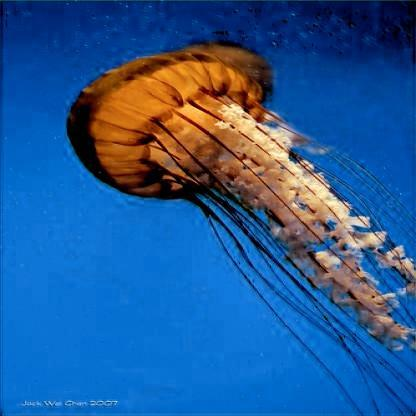Dressed: (77, 48, 407, 338)
